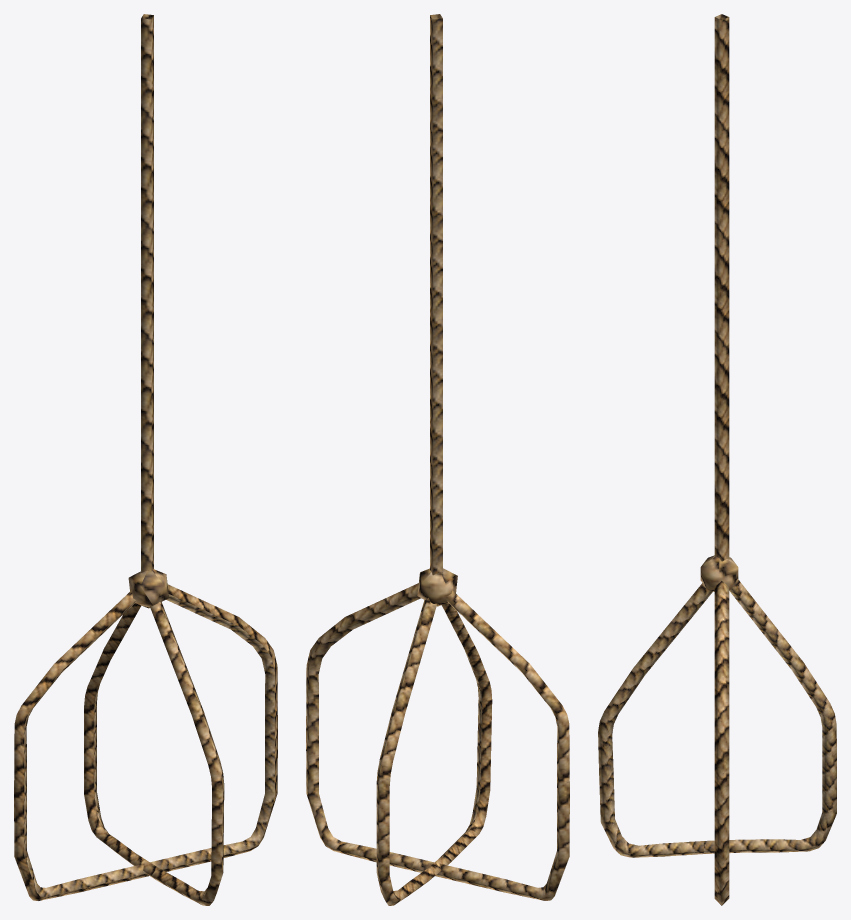
The model's file is Rope for chest.fbx.
3 views of the same model, side by side, from view 1: azimuth 30°, elevation 25°; view 2: azimuth 150°, elevation 25°; view 3: azimuth 270°, elevation 25° (orthographic). The views are drawn at different scales.
Visible parts, largest first — view 1: Tied rope, Straight rope; view 2: Tied rope, Straight rope; view 3: Tied rope, Straight rope.
Boxes of the visible parts, x1,y1,x2,y2 form: Tied rope: (14, 569, 277, 905); Straight rope: (141, 14, 153, 572); Tied rope: (306, 568, 569, 905); Straight rope: (430, 14, 442, 575); Tied rope: (598, 555, 836, 905); Straight rope: (714, 14, 729, 561).
Bounding box in the file's own units: 81.09 × 253 × 65.17.
